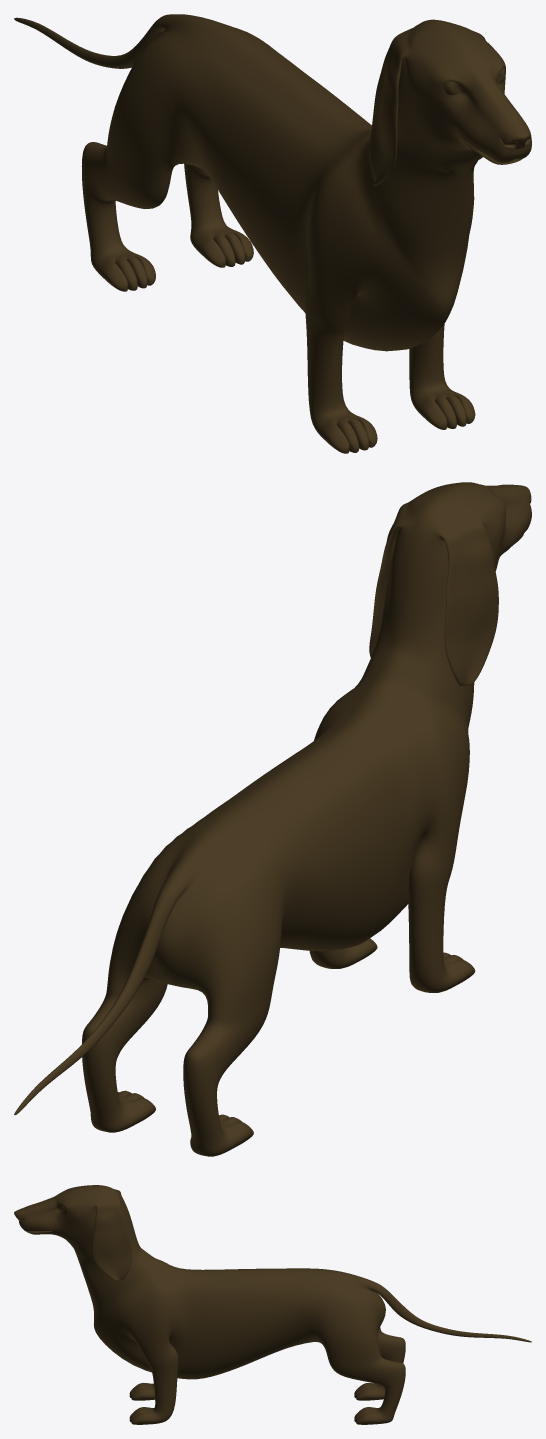
File: Hounds.FBX
3 renders of one model, top to bottom at view 1: azimuth 30°, elevation 25°; view 2: azimuth 150°, elevation 25°; view 3: azimuth 270°, elevation 25°, orthographic. The views are drawn at different scales.
Parts seen in each view (by area): view 1: Plane001; view 2: Plane001; view 3: Plane001.
Boxes of the visible parts, box(x1,y1,x2,y2) form: Plane001: box(14, 14, 531, 453); Plane001: box(14, 482, 531, 1156); Plane001: box(14, 1185, 531, 1424).
Size of the model in its own units: 4.9 by 14.28 by 30.12.
